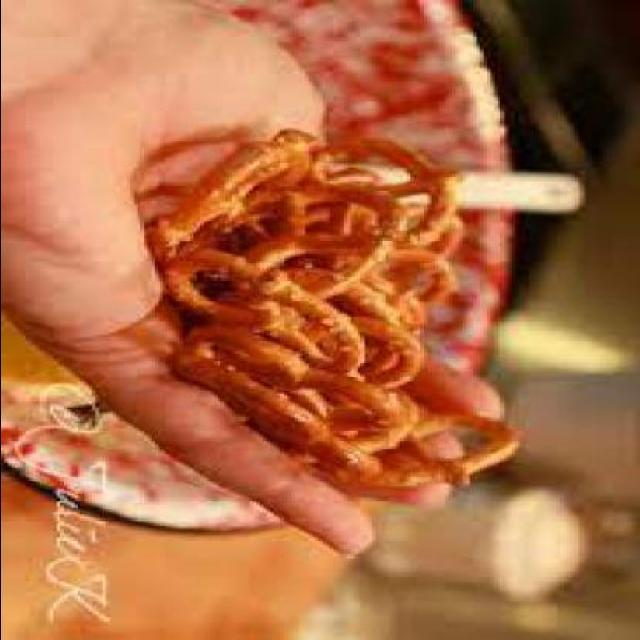Salatini packaged: (164, 132, 528, 496)
